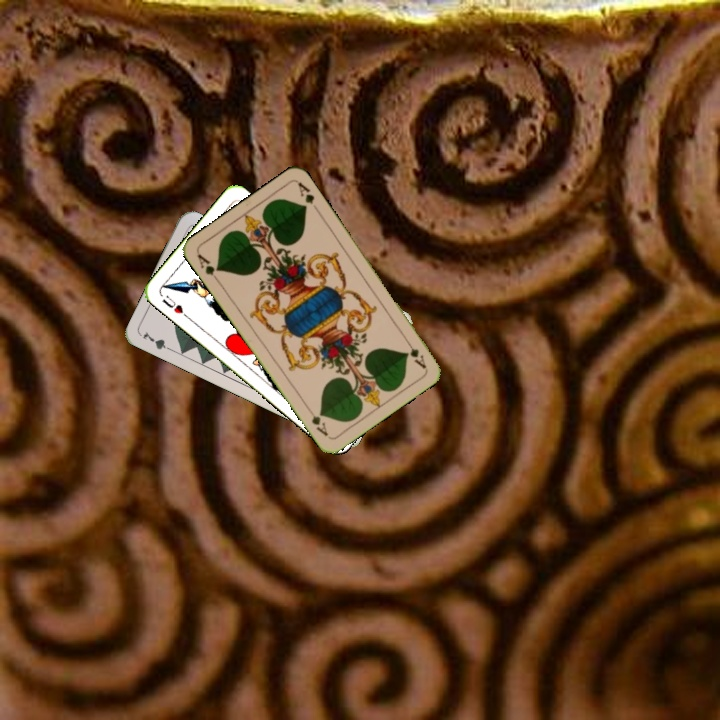G7: (139, 327, 177, 354)
GA: (193, 250, 222, 286), (401, 334, 429, 371)
HU: (158, 291, 191, 321)
